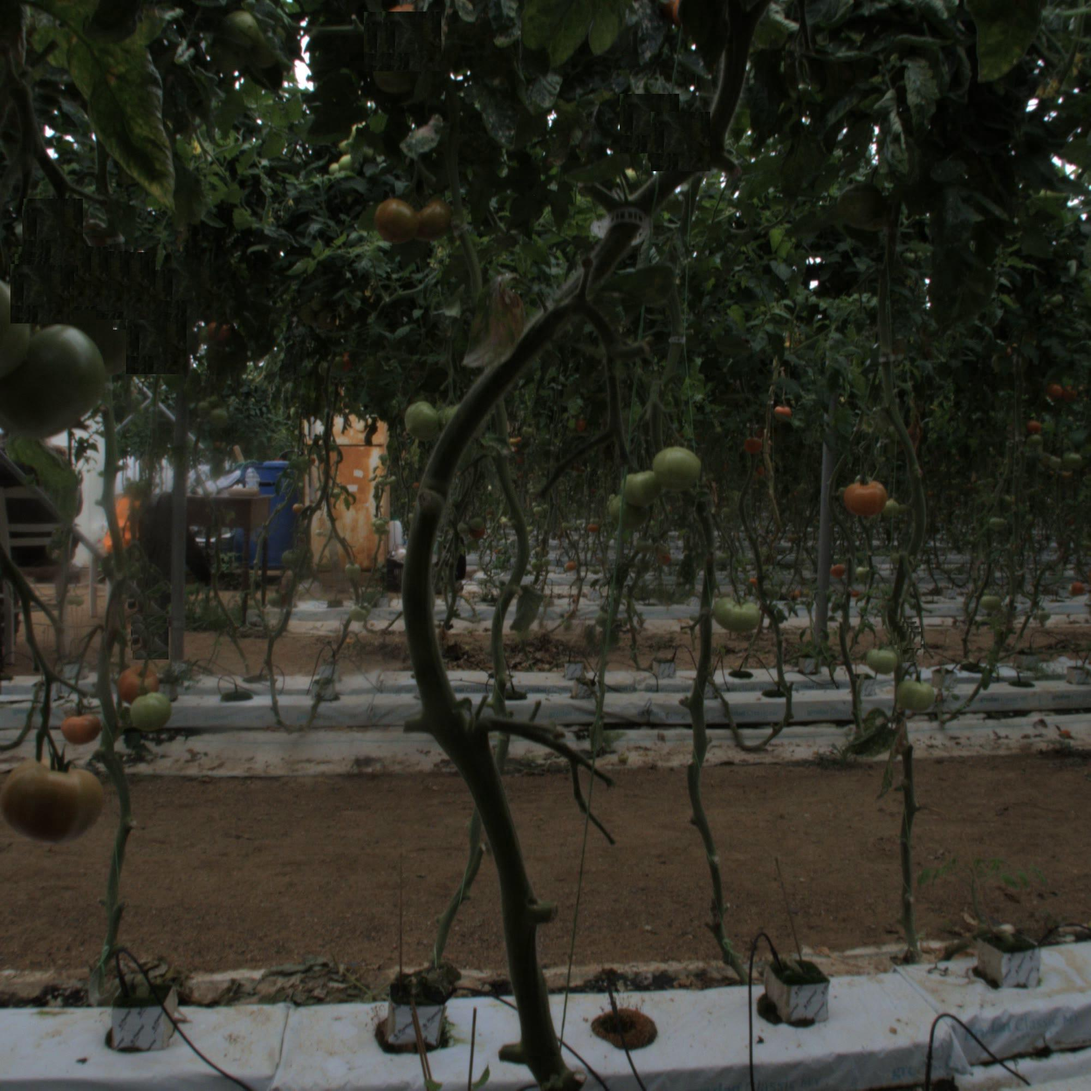fully-ripe: (842, 475, 888, 520), (59, 705, 104, 750), (120, 663, 159, 703)
semi-ripe: (1, 748, 106, 853), (372, 196, 421, 245), (407, 195, 453, 241)
unripe: (15, 326, 107, 419), (616, 466, 661, 511), (652, 447, 697, 491), (714, 586, 758, 631), (403, 401, 445, 443), (132, 692, 171, 731), (899, 678, 934, 713), (865, 639, 900, 674)
